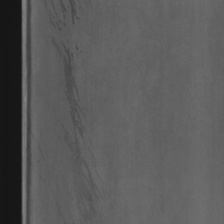water_spot: (48, 4, 96, 215)
